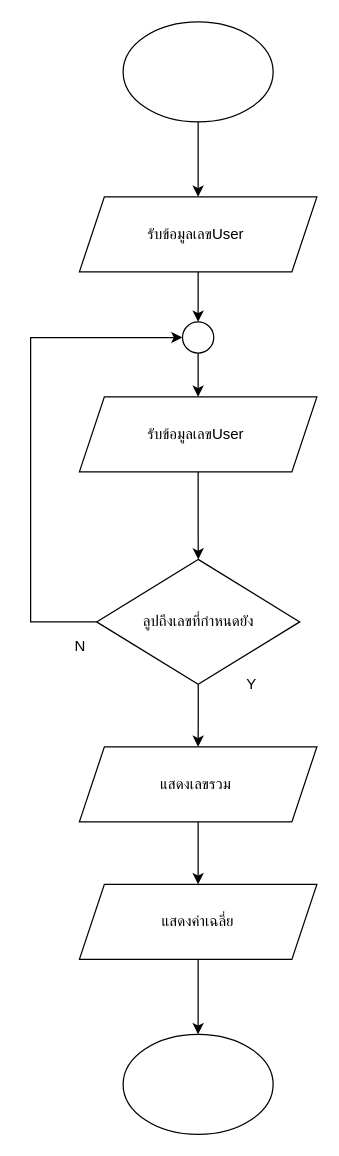
Image size: 339x1156. Some labels were removed from this diagram. Each missing label, with the centre of its shape:
END: the point at 197,1083
Start: the point at 197,71
